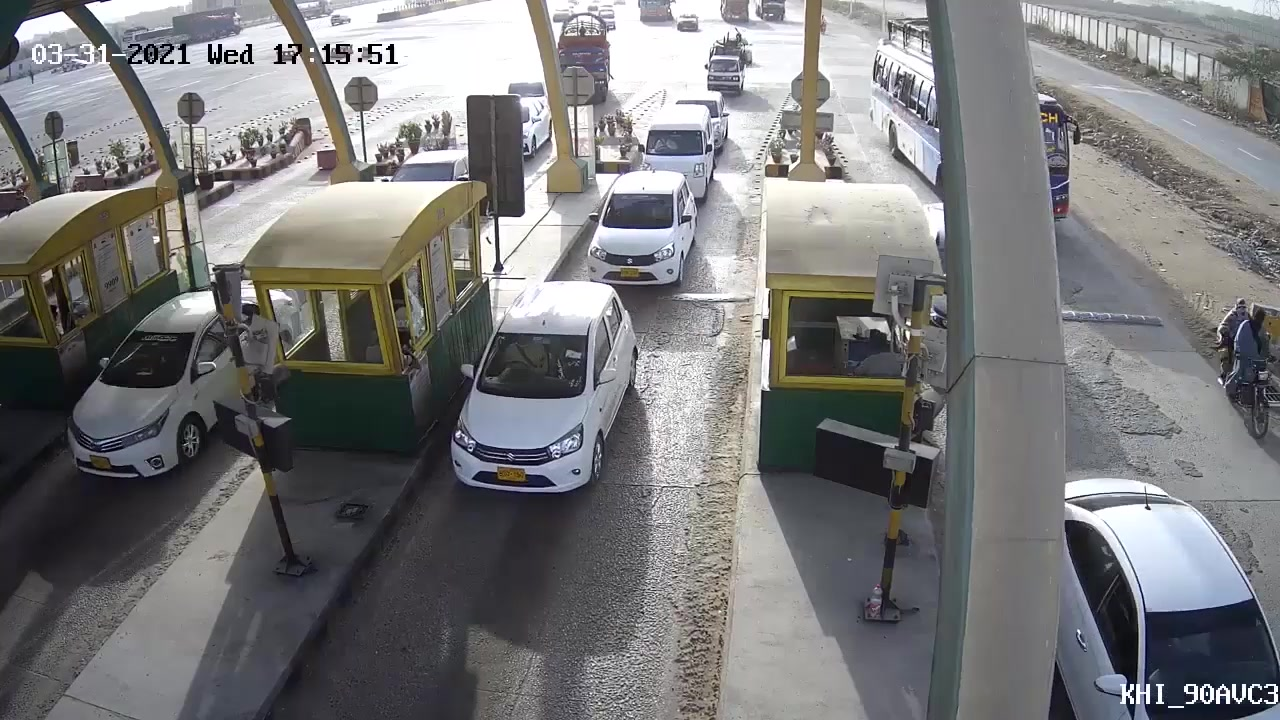F1: (446, 281, 644, 490), (584, 168, 703, 292)
